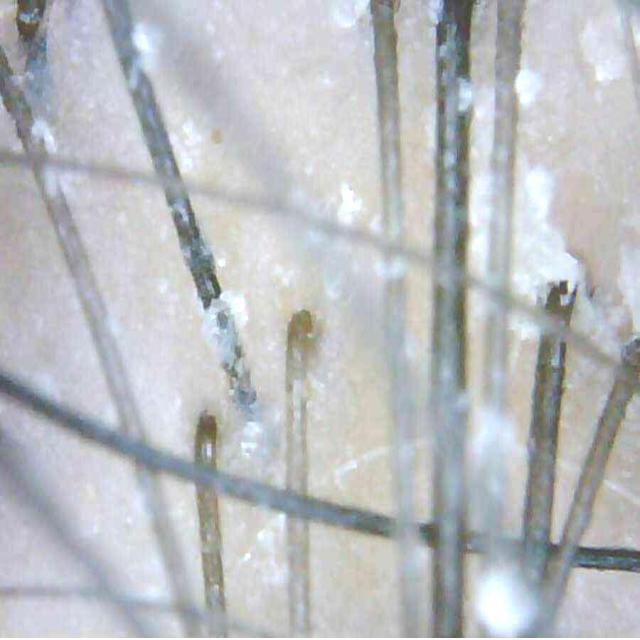d: (511, 149, 581, 305), (204, 292, 256, 407), (464, 405, 530, 488), (476, 566, 536, 637), (579, 3, 628, 82), (614, 236, 640, 337), (132, 21, 162, 71), (330, 0, 370, 29), (338, 182, 362, 224), (240, 419, 265, 459), (515, 69, 541, 106), (31, 118, 56, 154), (32, 121, 55, 151), (458, 78, 474, 113), (429, 0, 443, 25), (48, 170, 61, 195)
